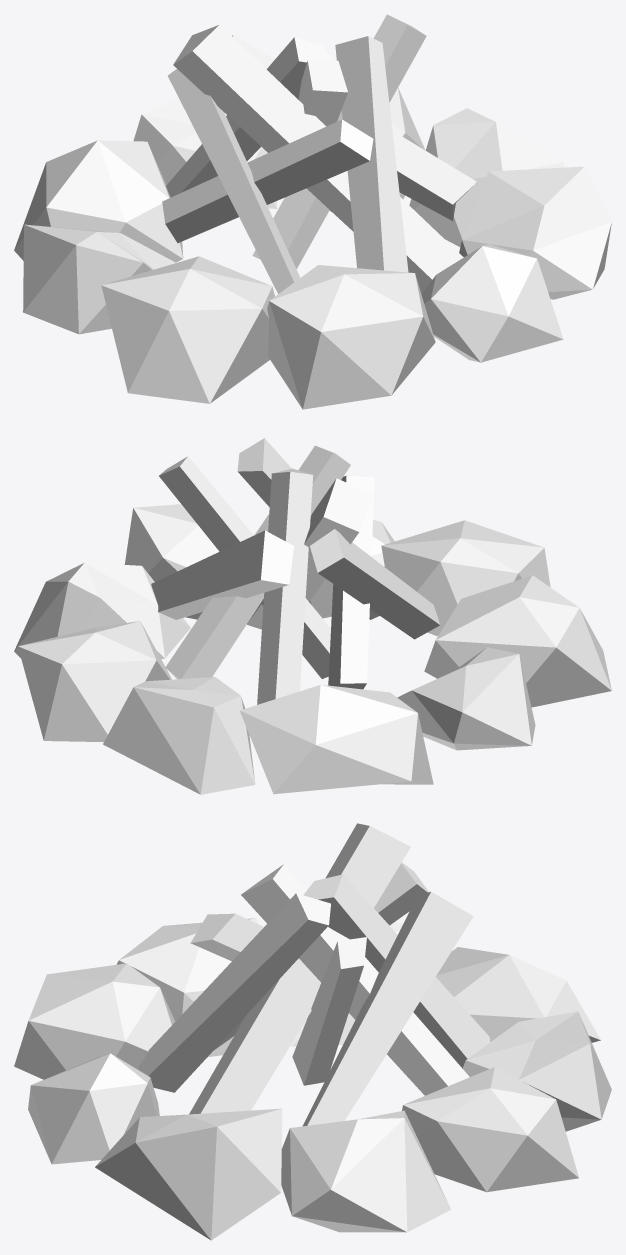
The model's file is Bonfire.fbx.
3 views of the same model, one above another, from view 1: azimuth 30°, elevation 25°; view 2: azimuth 150°, elevation 25°; view 3: azimuth 270°, elevation 25° (orthographic). The views are drawn at different scales.
Visible parts, largest first — view 1: Bonfire; view 2: Bonfire; view 3: Bonfire.
Part boxes in pixels (<box>): Bonfire: <box>14,14,611,409</box>; Bonfire: <box>14,438,611,794</box>; Bonfire: <box>14,823,611,1240</box>.
Bounding box in the file's own units: 869 × 434 × 849.
